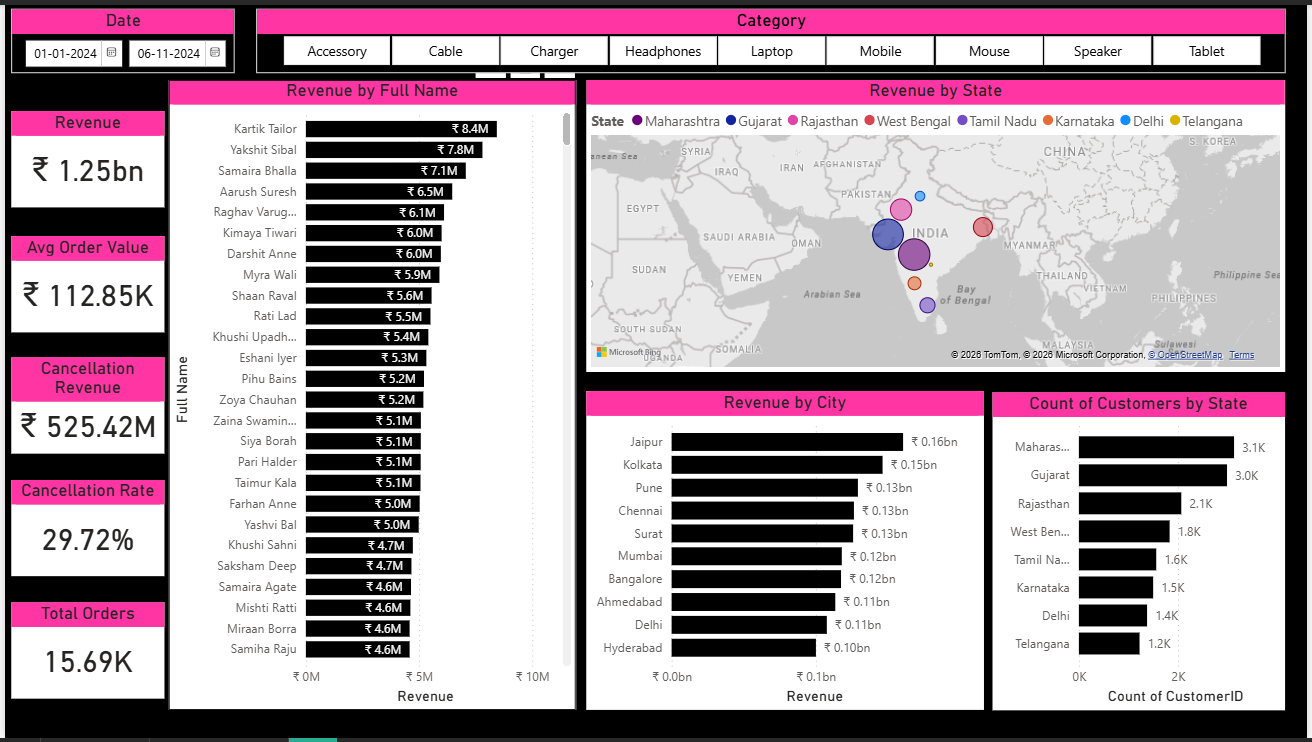

Layout of this report page (visuals, bound fields, positions):
{"tool":"powerbi","page":{"name":"Revenue","canvas":[1280,720],"ordinal":1},"visuals":[{"type":"shape","box":[0,0,1280.3,72.9],"z":0},{"type":"shape","box":[0,0,160.5,720.3],"z":1000},{"type":"barChart","fields":{"Category":["Customers.Full Name"],"Y":["Key Measures.Revenue"]},"box":[160.7,73.6,400,618.4],"z":2000},{"type":"barChart","fields":{"Category":["Customers.City"],"Y":["Key Measures.Revenue"]},"box":[570.6,379.1,390.2,312.9],"z":3000},{"type":"map","title":"Revenue by State","fields":{"Category":["Customers.State"],"Series":["Customers.State"],"Size":["Key Measures.Revenue"]},"box":[570.4,74.1,686,286.5],"z":4000},{"type":"barChart","title":"Count of Customers by State","fields":{"Category":["Customers.State"],"Y":["CountNonNull(Orders.CustomerID)"]},"box":[969.3,380.4,287.1,311.7],"z":5000},{"type":"slicer","title":"Category","fields":{"Values":["Products.Category"]},"box":[246.3,3.7,1010.1,63.4],"z":6000},{"type":"card","title":"Revenue","fields":{"Values":["Key Measures.Revenue"]},"box":[6.2,104.5,150.5,94.5],"z":7000},{"type":"card","title":"Avg Order Value","fields":{"Values":["Key Measures.AOV"]},"box":[6.2,226.4,150.5,94.5],"z":8000},{"type":"card","title":"Cancellation Revenue","fields":{"Values":["Key Measures.Cancelled_rev"]},"box":[6.2,345.8,150.5,94.5],"z":9000},{"type":"card","title":"Cancellation Rate","fields":{"Values":["Key Measures.Cancellation Rate"]},"box":[6.2,466.5,150.5,94.5],"z":10000},{"type":"card","title":"Total Orders","fields":{"Values":["CountNonNull(Orders.OrderID)"]},"box":[6.2,585.9,150.5,94.5],"z":11000},{"type":"slicer","title":"Date","fields":{"Values":["Orders.Date and time of purchase"]},"box":[6.2,3.7,218.9,63.4],"z":12000}]}

Visuals, with their boxes in screenshot pixels (x1, y1, x2, y2), scaled from the page's 1280x720 canvas onto the 1312x742 screenshot:
shape: x1=0, y1=0, x2=1311, y2=75
shape: x1=0, y1=0, x2=165, y2=741
barChart - Customers.Full Name x Key Measures.Revenue: x1=165, y1=76, x2=575, y2=713
barChart - Customers.City x Key Measures.Revenue: x1=585, y1=391, x2=985, y2=713
"Revenue by State" map: x1=585, y1=76, x2=1288, y2=372
"Count of Customers by State" barChart: x1=994, y1=392, x2=1288, y2=713
"Category" slicer: x1=252, y1=4, x2=1288, y2=69
"Revenue" card: x1=6, y1=108, x2=161, y2=205
"Avg Order Value" card: x1=6, y1=233, x2=161, y2=331
"Cancellation Revenue" card: x1=6, y1=356, x2=161, y2=454
"Cancellation Rate" card: x1=6, y1=481, x2=161, y2=578
"Total Orders" card: x1=6, y1=604, x2=161, y2=701
"Date" slicer: x1=6, y1=4, x2=231, y2=69
